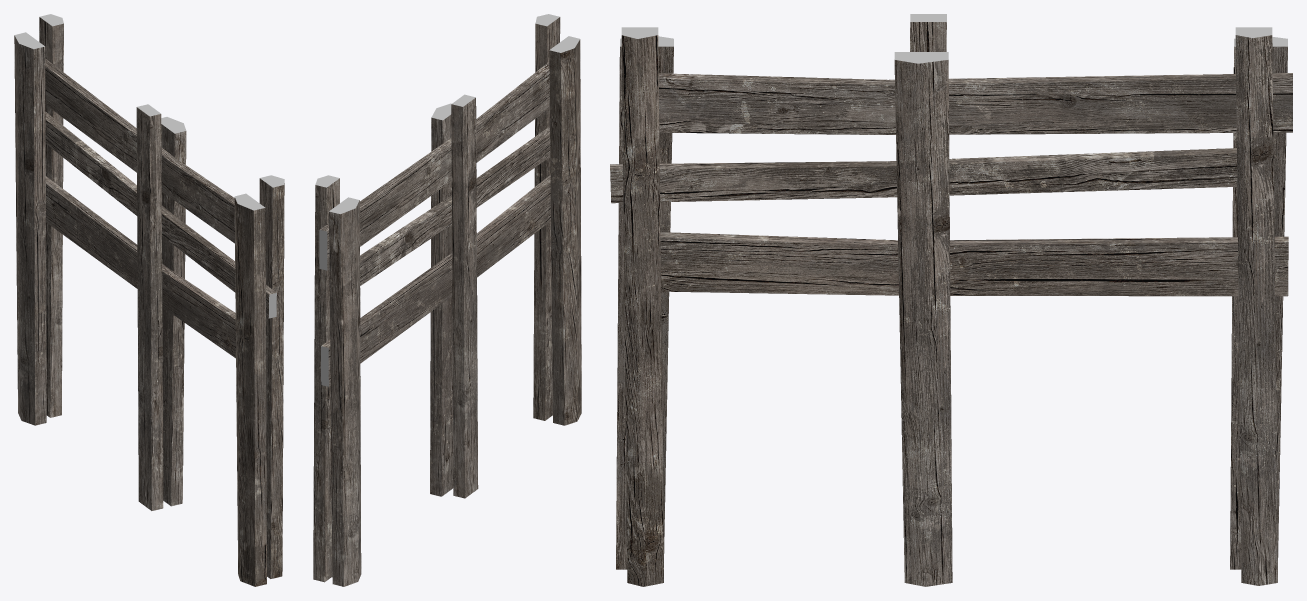
Rendered from Fence1A.fbx.
3 views of the same model, side by side, from view 1: azimuth 30°, elevation 25°; view 2: azimuth 150°, elevation 25°; view 3: azimuth 270°, elevation 25° (orthographic). The views are drawn at different scales.
Parts seen in each view (by area): view 1: polySurface7; view 2: polySurface7; view 3: polySurface7.
Part boxes in pixels (bbox=[...]): polySurface7: bbox=[14, 14, 284, 586]; polySurface7: bbox=[313, 14, 581, 586]; polySurface7: bbox=[610, 14, 1292, 586].
Size of the model in its own units: 0.2287 by 2.03 by 2.29.
